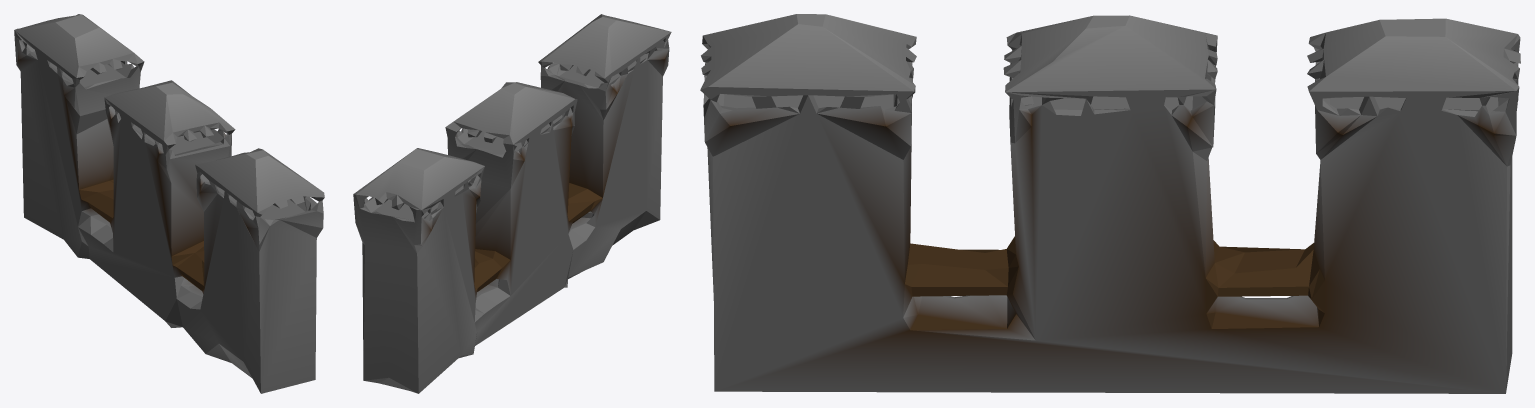
The model's file is Medieval Walls(1).glb.
The picture shows the model from 3 angles, left to right: view 1: azimuth 30°, elevation 25°; view 2: azimuth 150°, elevation 25°; view 3: azimuth 270°, elevation 25°; orthographic projection. The views are drawn at different scales.
Visible parts, largest first — view 1: id0; view 2: id0; view 3: id0.
Boxes of the visible parts, x1=… form: id0: x1=14, y1=14, x2=324, y2=393; id0: x1=353, y1=14, x2=671, y2=393; id0: x1=700, y1=14, x2=1520, y2=393.
Bounding box in the file's own units: 8.34 × 22.29 × 46.64.
